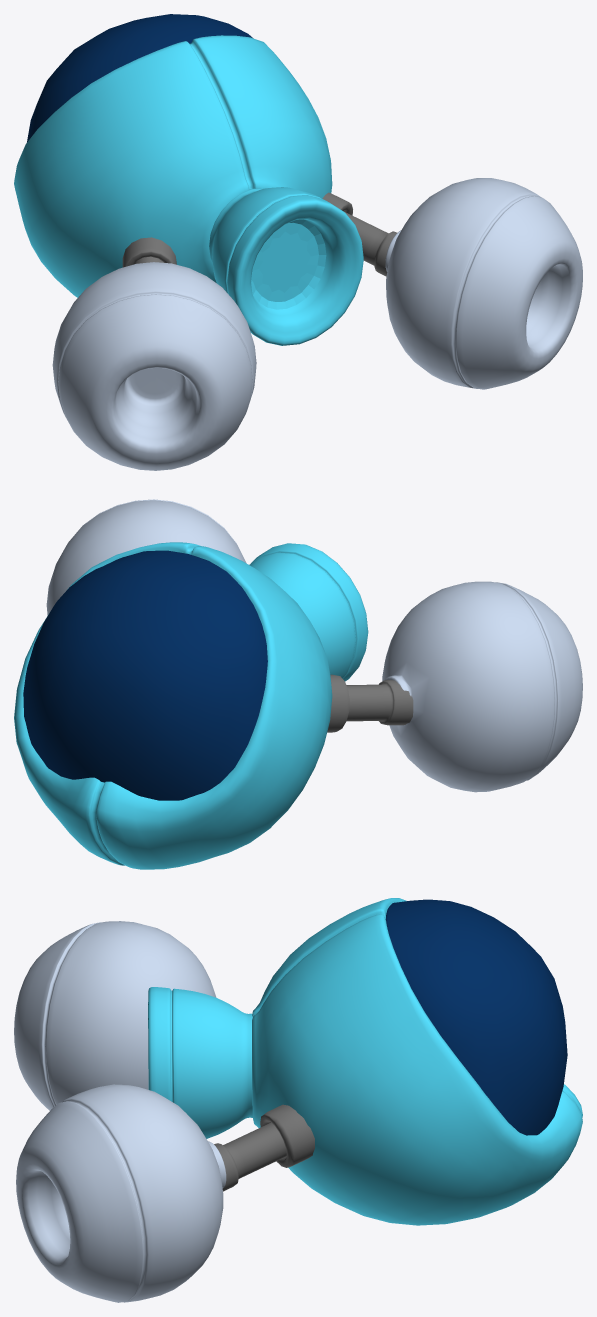
Rendered from water-pot.glb.
The picture shows the model from 3 angles, top to bottom: view 1: azimuth 30°, elevation 25°; view 2: azimuth 150°, elevation 25°; view 3: azimuth 270°, elevation 25°; orthographic projection. The views are drawn at different scales.
Visible parts, largest first — view 1: waterCapsule_engines.001, waterCapsule_main.001, waterCapsule_mainJet.001, waterCapsule_window.001, waterCapsule_connection.001; view 2: waterCapsule_window.001, waterCapsule_engines.001, waterCapsule_main.001, waterCapsule_mainJet.001, waterCapsule_connection.001; view 3: waterCapsule_engines.001, waterCapsule_main.001, waterCapsule_window.001, waterCapsule_mainJet.001, waterCapsule_connection.001.
Boxes of the visible parts, x1,y1,x2,y2 form: waterCapsule_engines.001: (52, 178, 582, 470); waterCapsule_main.001: (14, 35, 332, 297); waterCapsule_mainJet.001: (209, 187, 363, 345); waterCapsule_window.001: (27, 14, 253, 141); waterCapsule_connection.001: (122, 192, 397, 276); waterCapsule_window.001: (23, 550, 267, 800); waterCapsule_engines.001: (46, 499, 582, 792); waterCapsule_main.001: (14, 542, 332, 869); waterCapsule_mainJet.001: (249, 543, 368, 681); waterCapsule_connection.001: (327, 674, 413, 732); waterCapsule_engines.001: (14, 921, 226, 1302); waterCapsule_main.001: (252, 898, 582, 1225); waterCapsule_window.001: (385, 899, 567, 1135); waterCapsule_mainJet.001: (148, 987, 252, 1138); waterCapsule_connection.001: (214, 1104, 314, 1191).
Size of the model in its own units: 0.9242 by 0.5096 by 0.8742.
